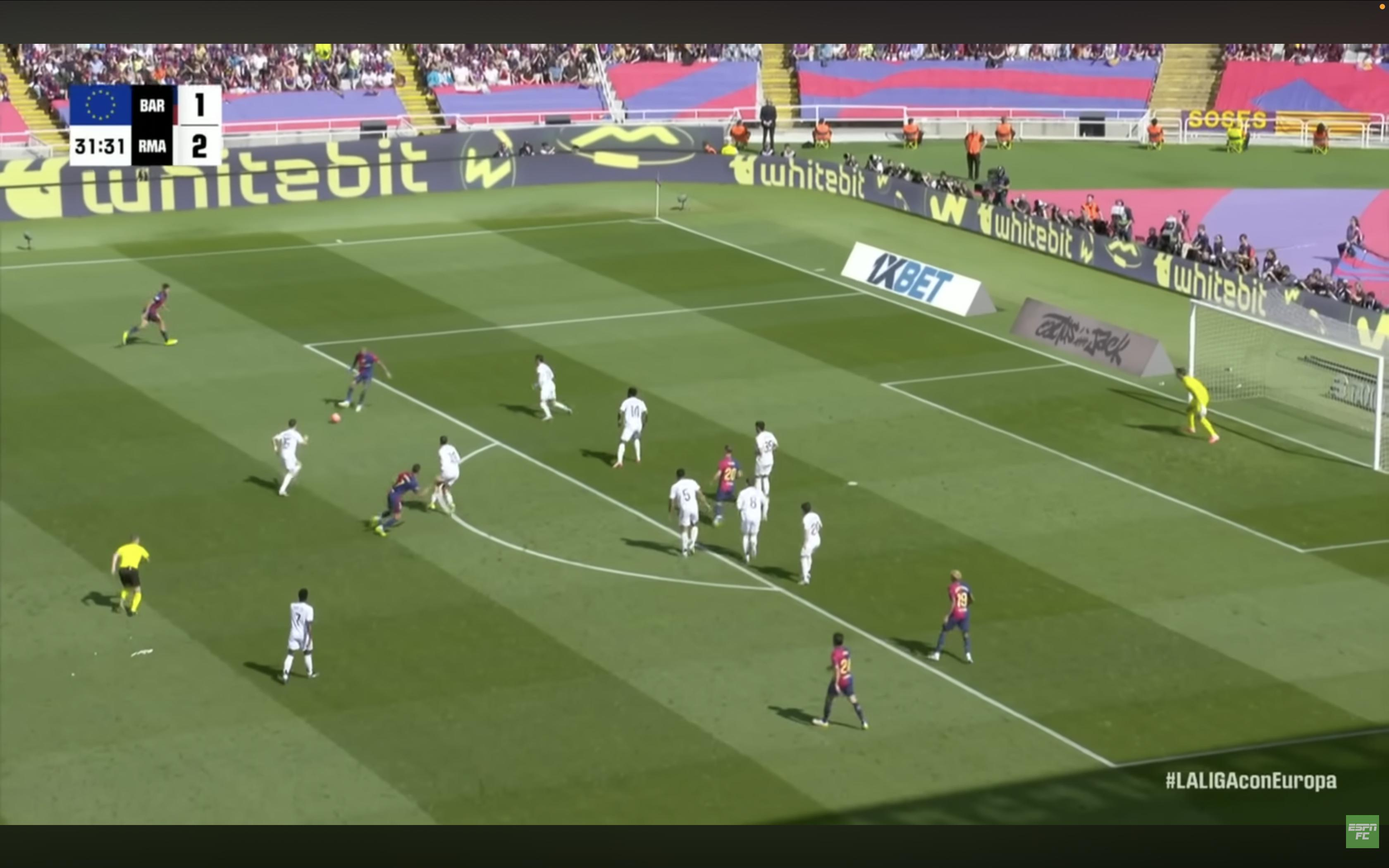ball: (329, 411, 342, 424)
goalkeeper: (1176, 368, 1220, 444)
player: (812, 633, 868, 729), (928, 570, 973, 663), (370, 464, 420, 537), (668, 468, 708, 556), (280, 589, 316, 684), (122, 284, 177, 346), (338, 348, 391, 412), (272, 419, 308, 496), (614, 387, 648, 468), (533, 355, 573, 420), (429, 436, 462, 514), (753, 421, 779, 520), (735, 478, 765, 563), (713, 446, 742, 526), (800, 502, 822, 585)
referee: (112, 536, 149, 616)
